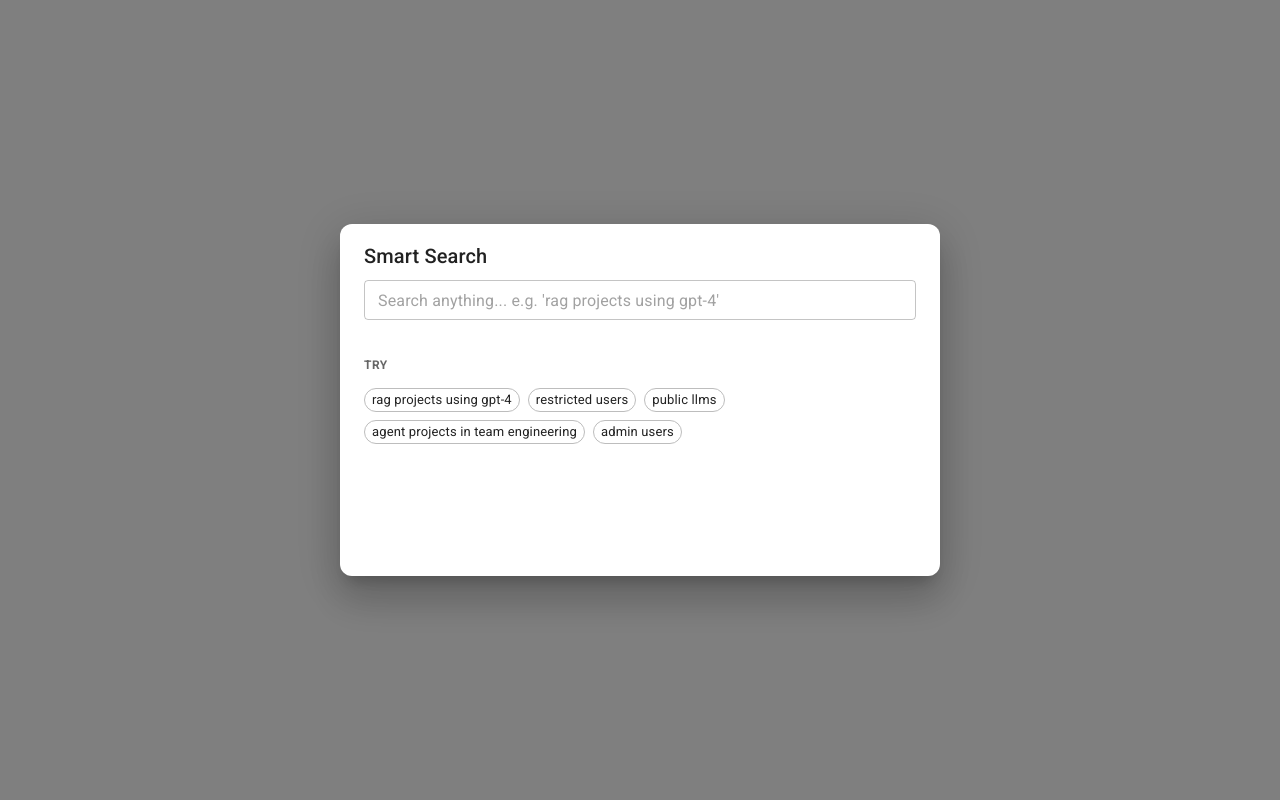
Test case: SmartSearch › rotates the loading message while waiting
The image size is (1280, 800).
Type "anything" into the field with placeholder "Search anything... e.g. 'rag projects using gpt-4'".
click(640, 300); type("anything")  # box [364, 280, 916, 320]
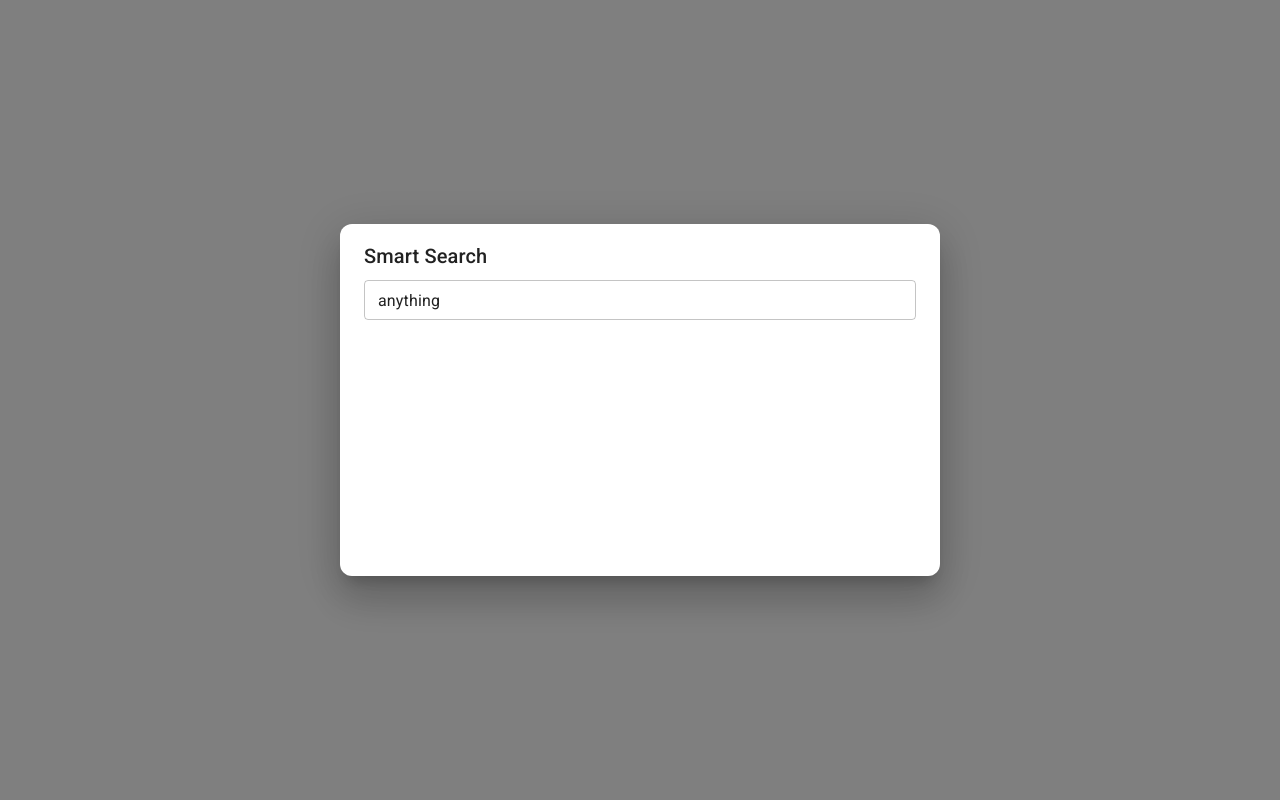
Press Enter in the field with placeholder "Search anything... e.g. 'rag projects using gpt-4'", box [364, 280, 916, 320]
Wait 2800 ms
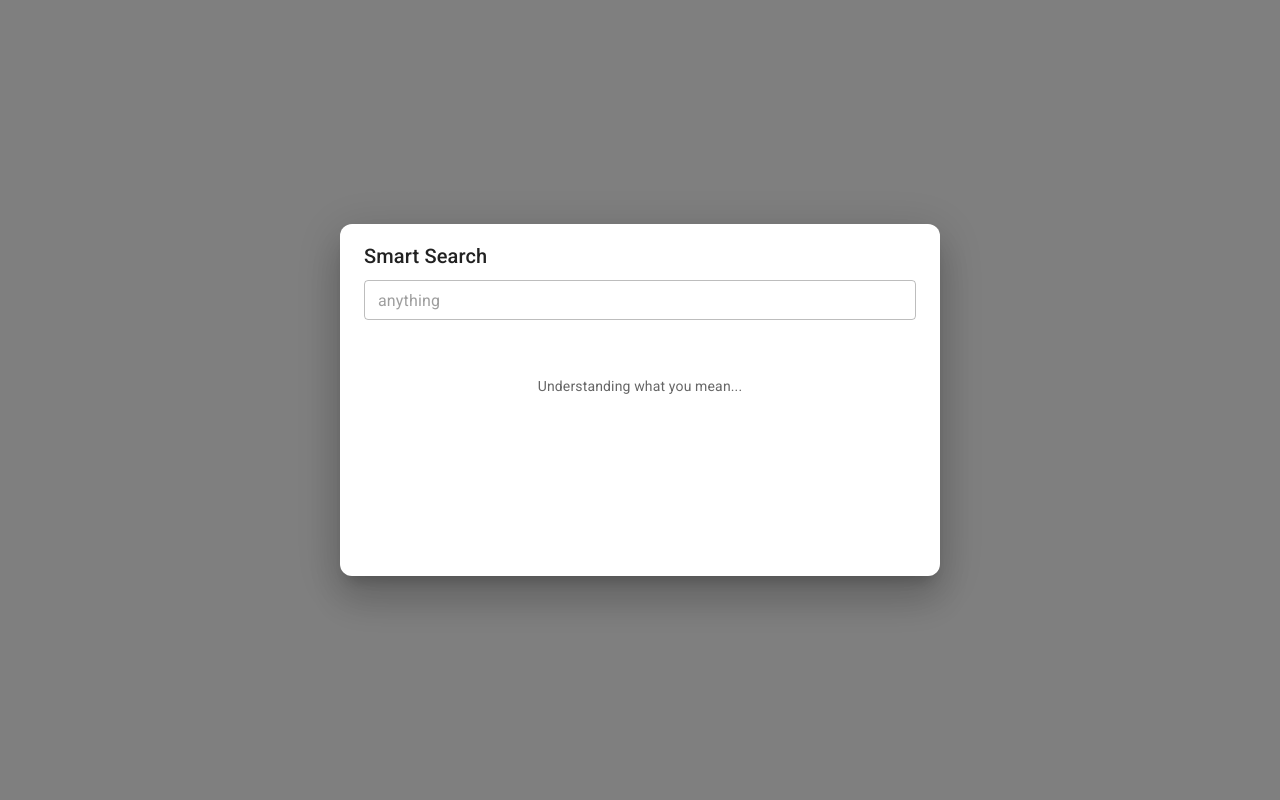
Check: the text "Understanding what you mean..." is shown, box [538, 378, 742, 394]
